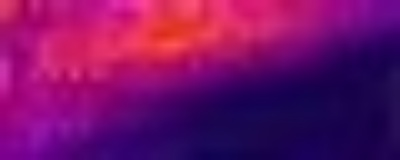Shadow: (86, 28, 400, 160)
